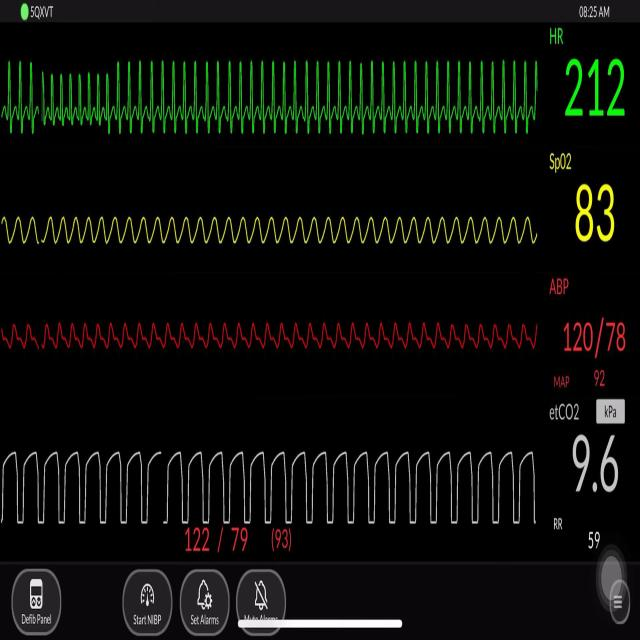danger: (110, 45, 541, 150), (36, 59, 102, 137), (2, 54, 30, 153)
